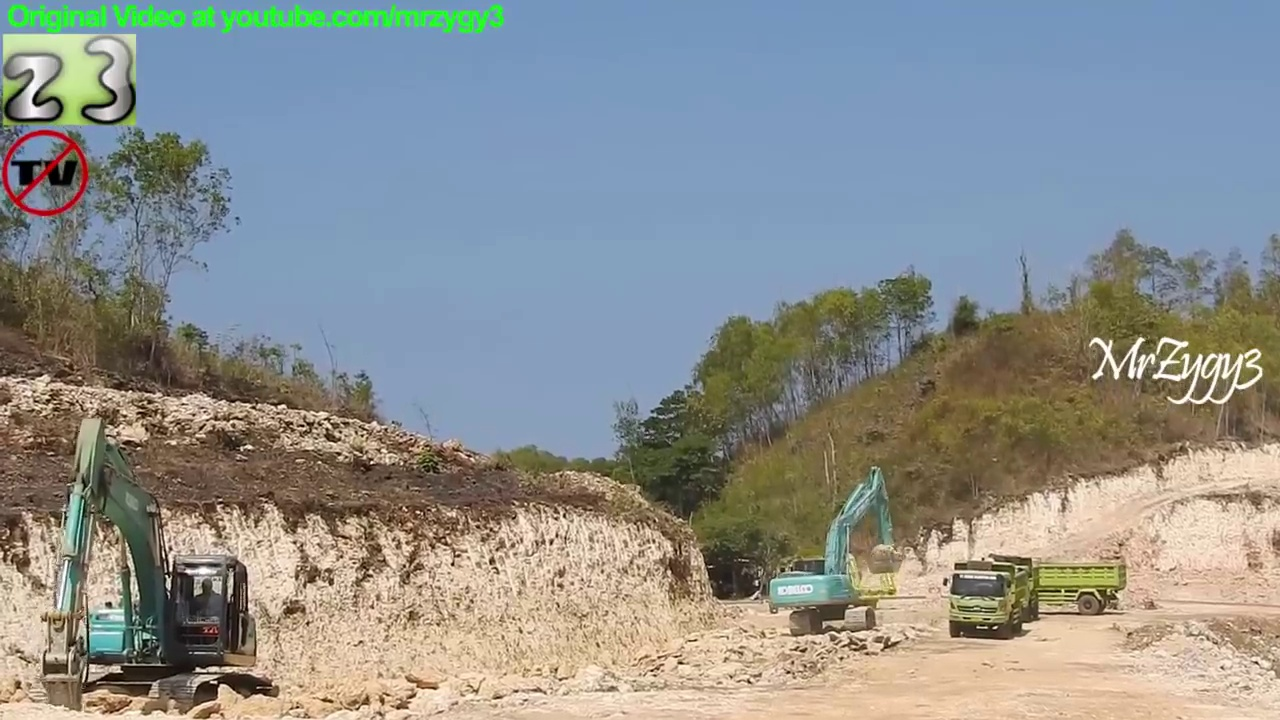excavator: (765, 462, 906, 638)
excavator breaker: (23, 409, 282, 720)
truck: (972, 550, 1133, 619), (943, 557, 1034, 640), (954, 551, 1043, 628)
